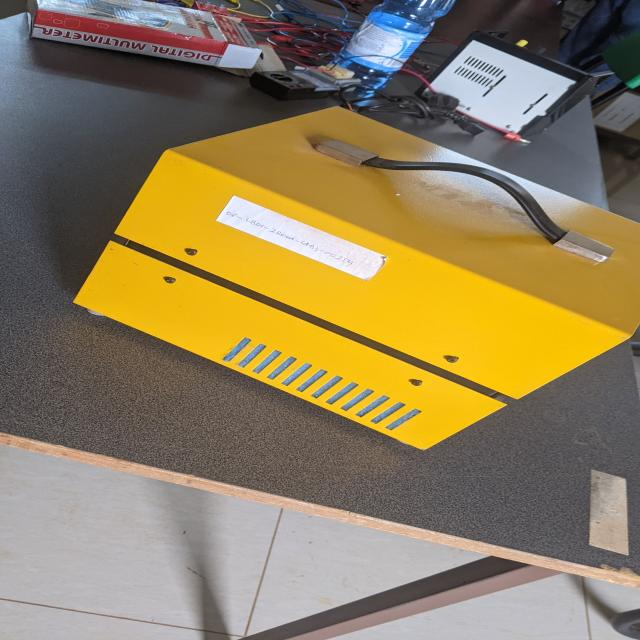Vacuum Pump: (60, 102, 640, 456)
